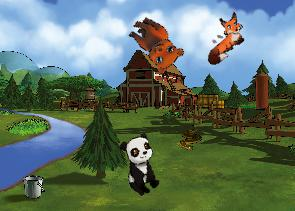bear: (118, 12, 189, 78)
fox: (192, 8, 254, 68)
panda: (117, 132, 164, 198)
